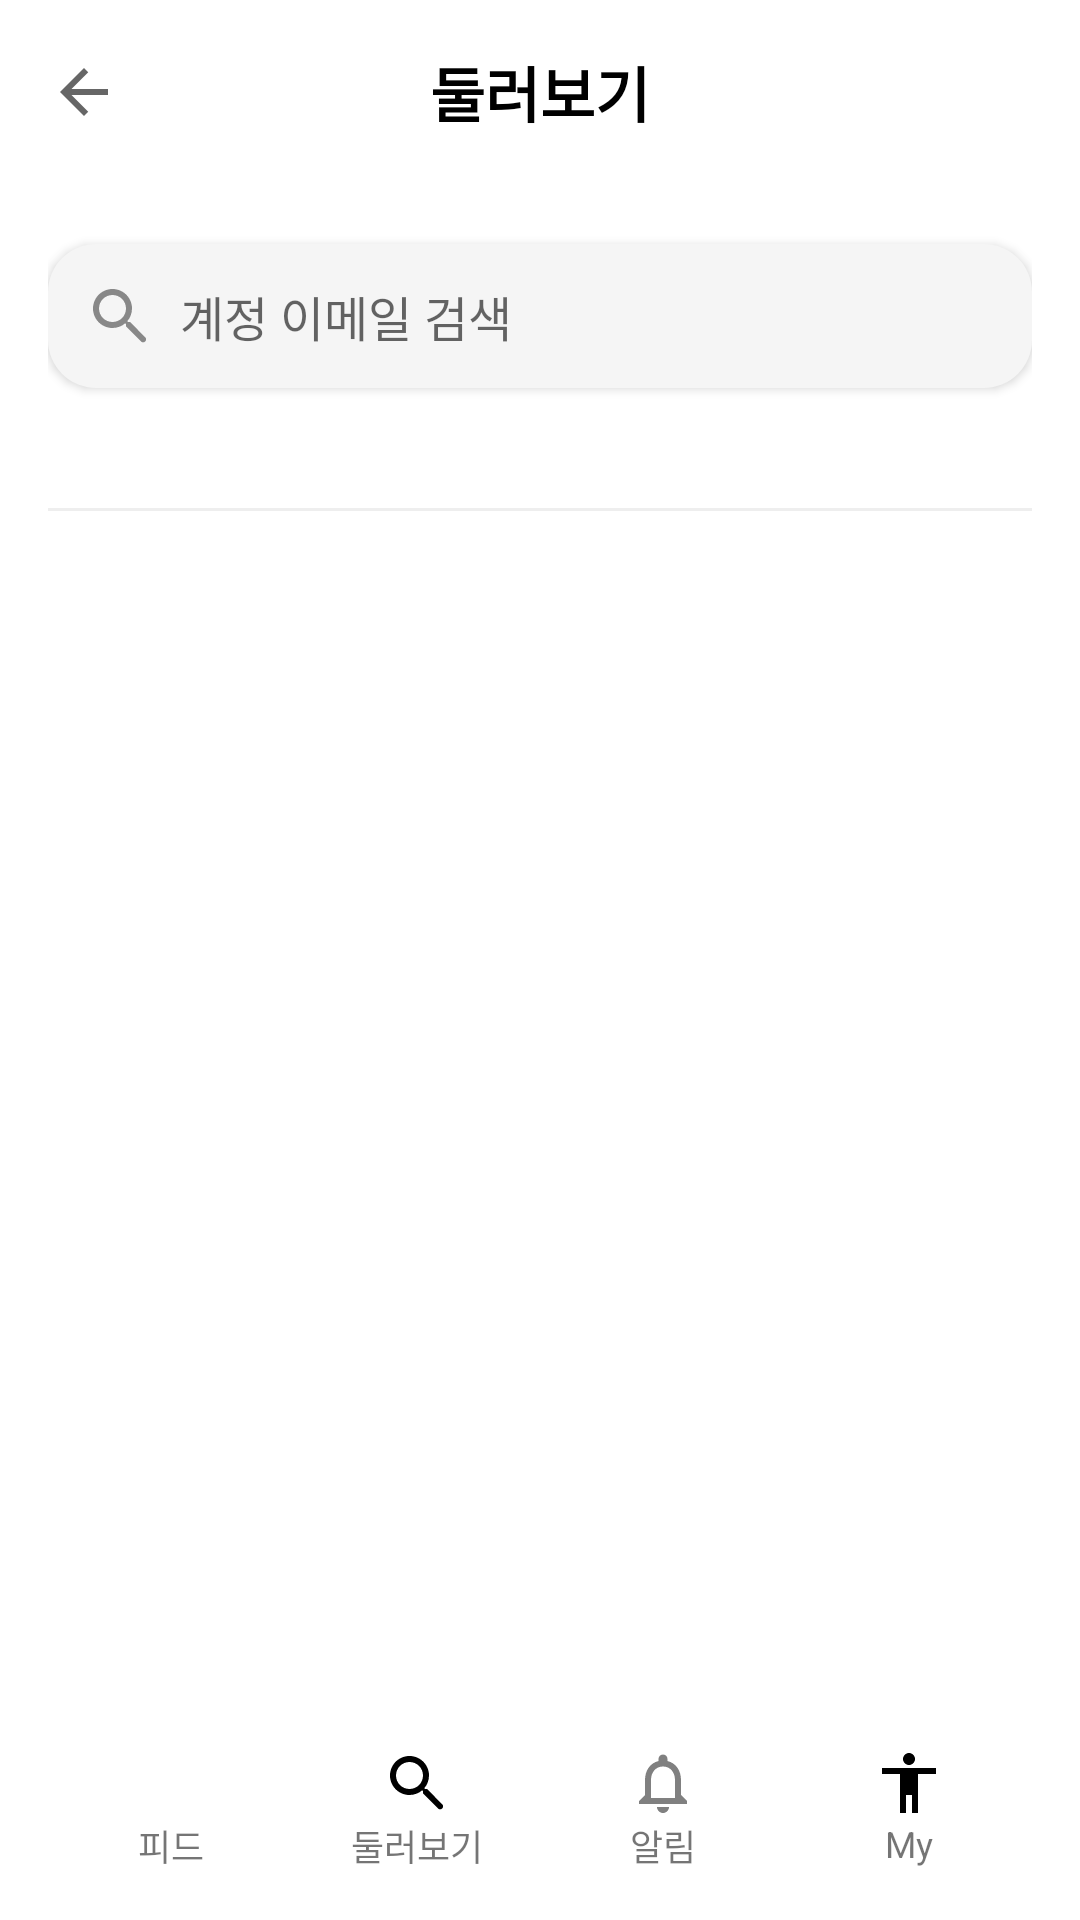

Icon click points for this 1080 x 1920 phone screenshot, format [x,y]:
back: [84,92]
person: [909,1783]
search: [119,316], [416,1783]
